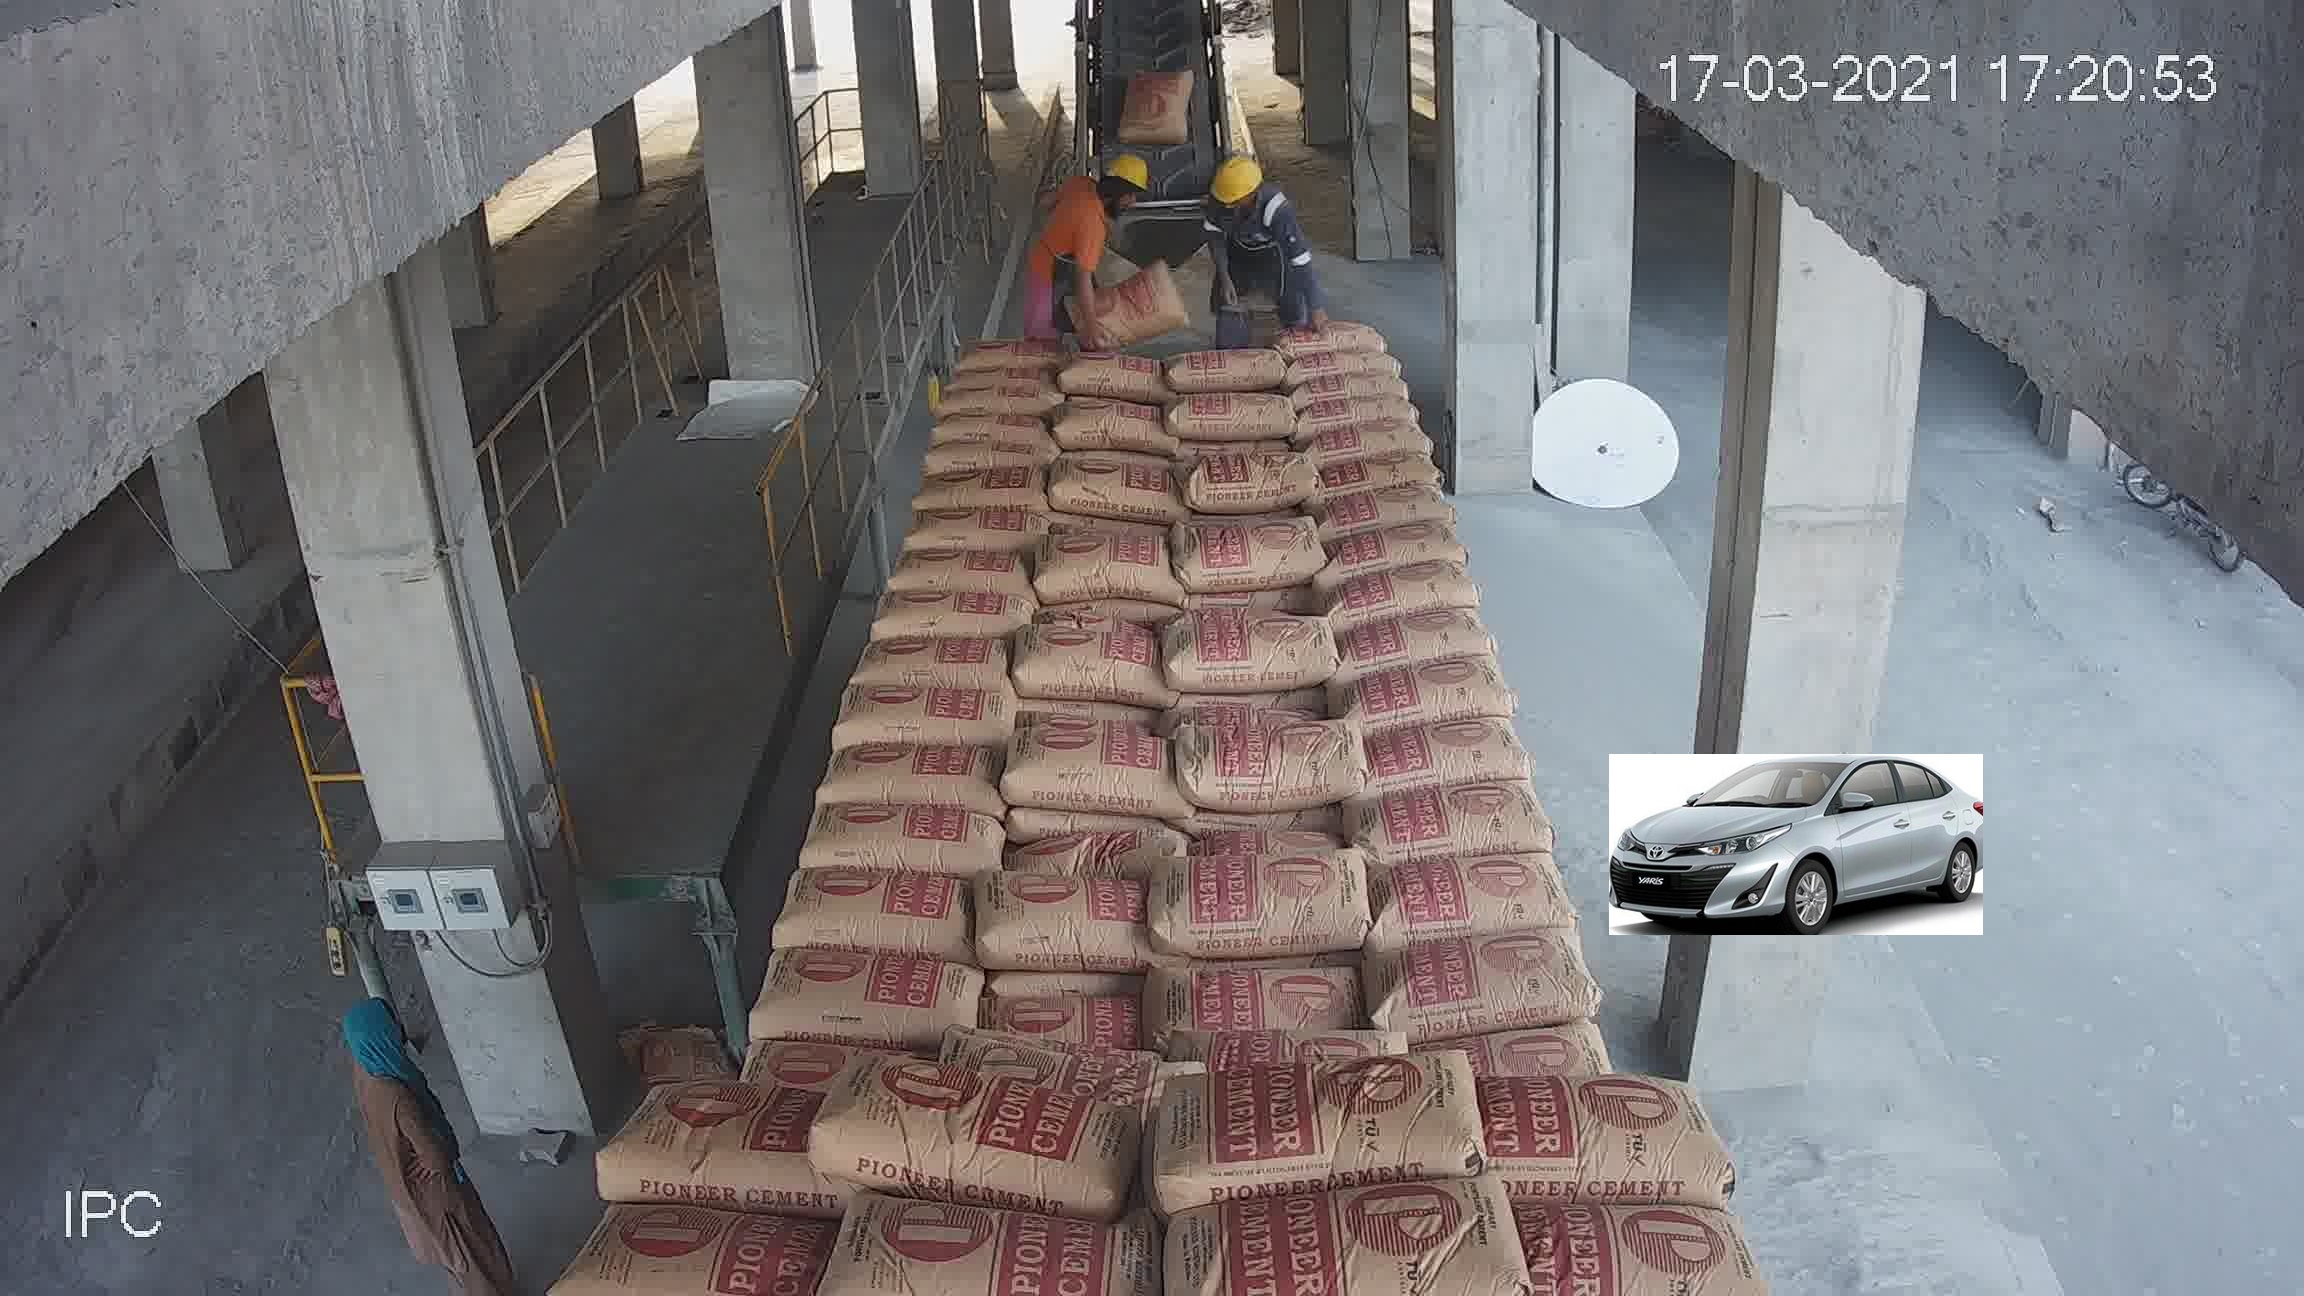bag: (1231, 597, 1421, 726), (1084, 187, 1211, 342)
bag_h: (1131, 1036, 1500, 1204), (1141, 921, 1431, 1082), (788, 1093, 1161, 1211), (1166, 1174, 1541, 1279), (859, 940, 1147, 1067), (1160, 832, 1434, 957), (837, 1198, 1180, 1296), (888, 829, 1139, 961), (1484, 1059, 1753, 1180), (593, 1060, 817, 1203), (1435, 945, 1681, 1070), (641, 951, 880, 1078), (1499, 1187, 1768, 1294), (728, 777, 973, 880), (687, 858, 888, 965), (1396, 870, 1639, 949), (576, 1214, 840, 1285), (1405, 801, 1608, 869), (1133, 794, 1396, 836), (987, 798, 1147, 855), (1063, 669, 1176, 747), (1423, 711, 1537, 783), (1063, 726, 1184, 793), (836, 673, 927, 741), (834, 737, 943, 790), (1048, 631, 1154, 676)
belt: (1010, 57, 1301, 532)
